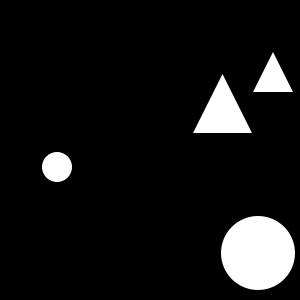rectangle: (221, 216, 295, 290), (42, 152, 72, 182)
triangle: (193, 74, 252, 133), (253, 52, 293, 92)
